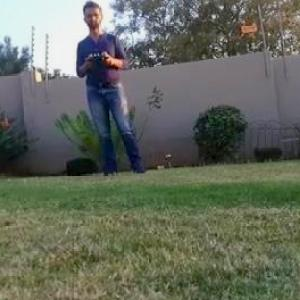follow: (73, 0, 153, 181)
